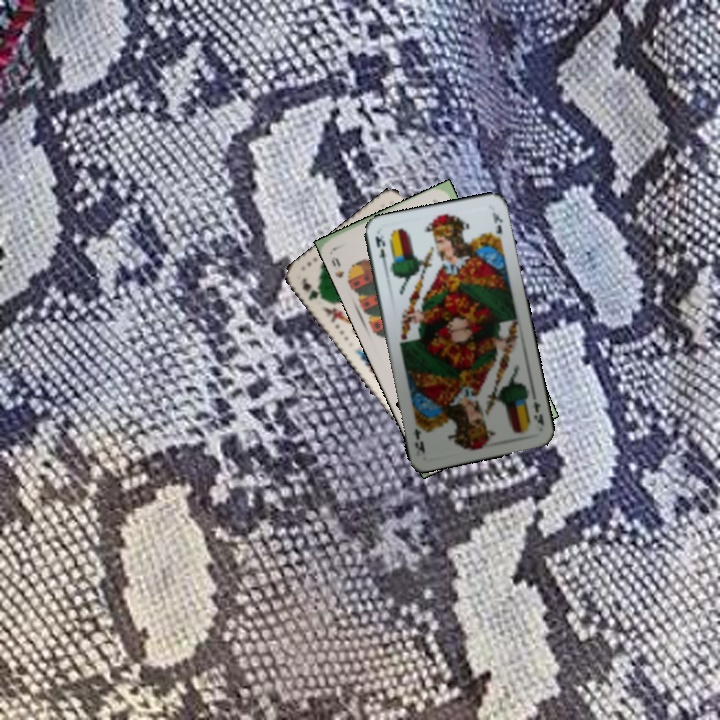EK: (371, 231, 389, 270), (529, 391, 546, 428)
GK: (298, 273, 327, 304)
S9: (327, 253, 356, 287)
